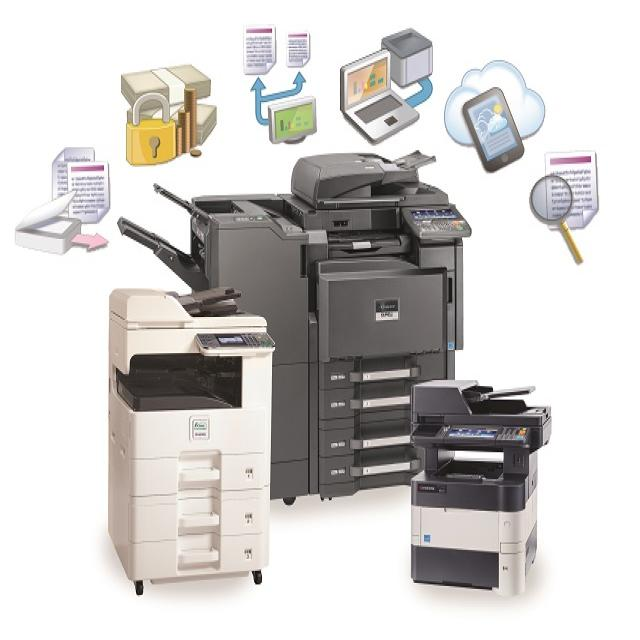printer: (118, 147, 471, 505), (107, 284, 275, 595), (408, 377, 552, 597)
